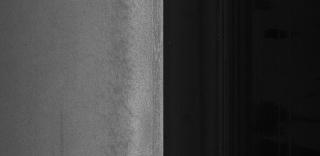silk spot: (107, 66, 137, 118)
